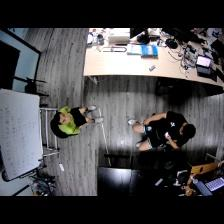normal: (127, 108, 196, 152), (58, 101, 106, 136)
